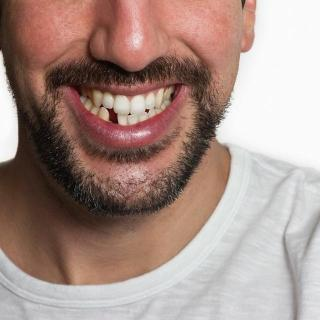maligned: (128, 113, 140, 127)
